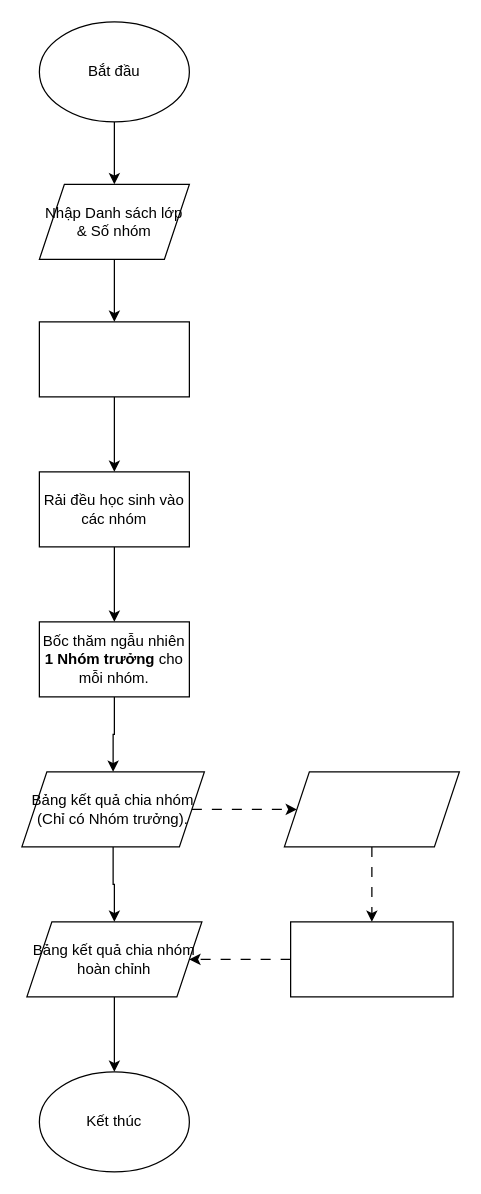
The diagram is 481 pixels wide and 1194 high, and some of its shapes have lost their labels. The shapes that lost their labels are listed below. From the top down, each one's centre as x and y in pixels, then its label:
At point 113,359: "Xáo trộn ngẫu nhiên toàn bộ danh sách".
At point 371,809: "Thêm vai trò cho nhóm (Tùy chỉnh)".
At point 371,959: "Quay ngẫu nhiên các vai trò mới (Tùy chỉnh)".
